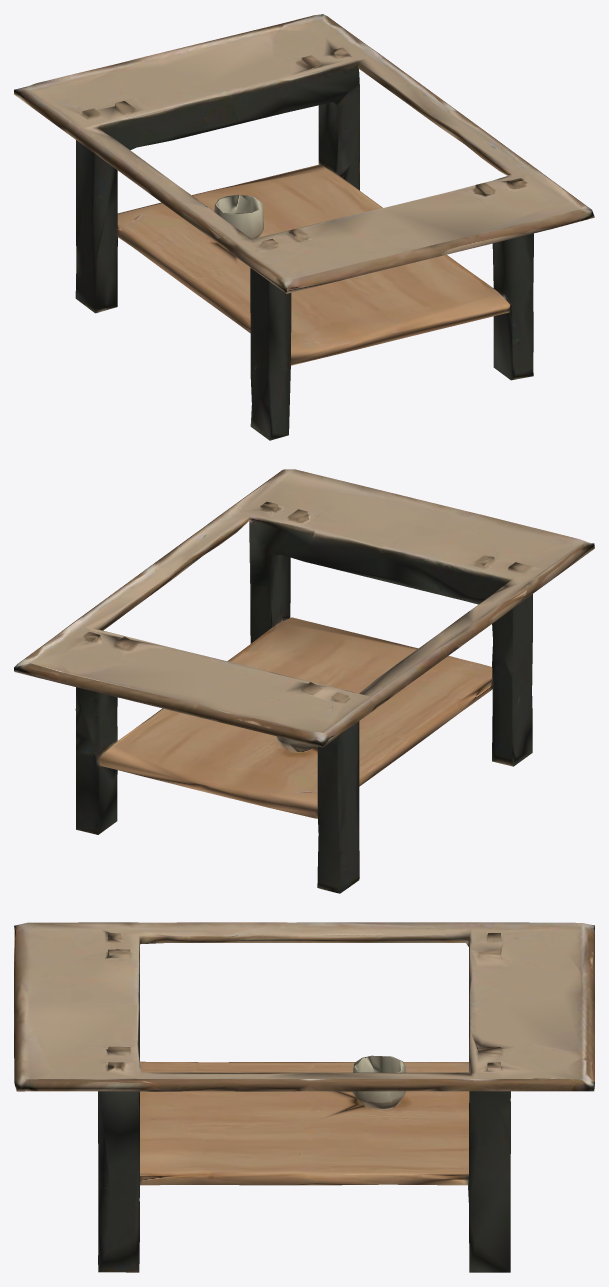
File: au_furn_table_loft.glb
The picture shows the model from 3 angles, top to bottom: view 1: azimuth 30°, elevation 25°; view 2: azimuth 150°, elevation 25°; view 3: azimuth 270°, elevation 25°; orthographic projection. The views are drawn at different scales.
Parts seen in each view (by area): view 1: tripo_node_29402c28-3cc7-498f-9906-d92c739ae97b; view 2: tripo_node_29402c28-3cc7-498f-9906-d92c739ae97b; view 3: tripo_node_29402c28-3cc7-498f-9906-d92c739ae97b.
Part boxes in pixels (x1=…): tripo_node_29402c28-3cc7-498f-9906-d92c739ae97b: x1=14, y1=14, x2=594, y2=440; tripo_node_29402c28-3cc7-498f-9906-d92c739ae97b: x1=14, y1=469, x2=594, y2=893; tripo_node_29402c28-3cc7-498f-9906-d92c739ae97b: x1=14, y1=922, x2=594, y2=1272.
Size of the model in its own units: 0.6427 by 0.3793 by 0.9792.
Materials: 1 (1 with a texture image).
